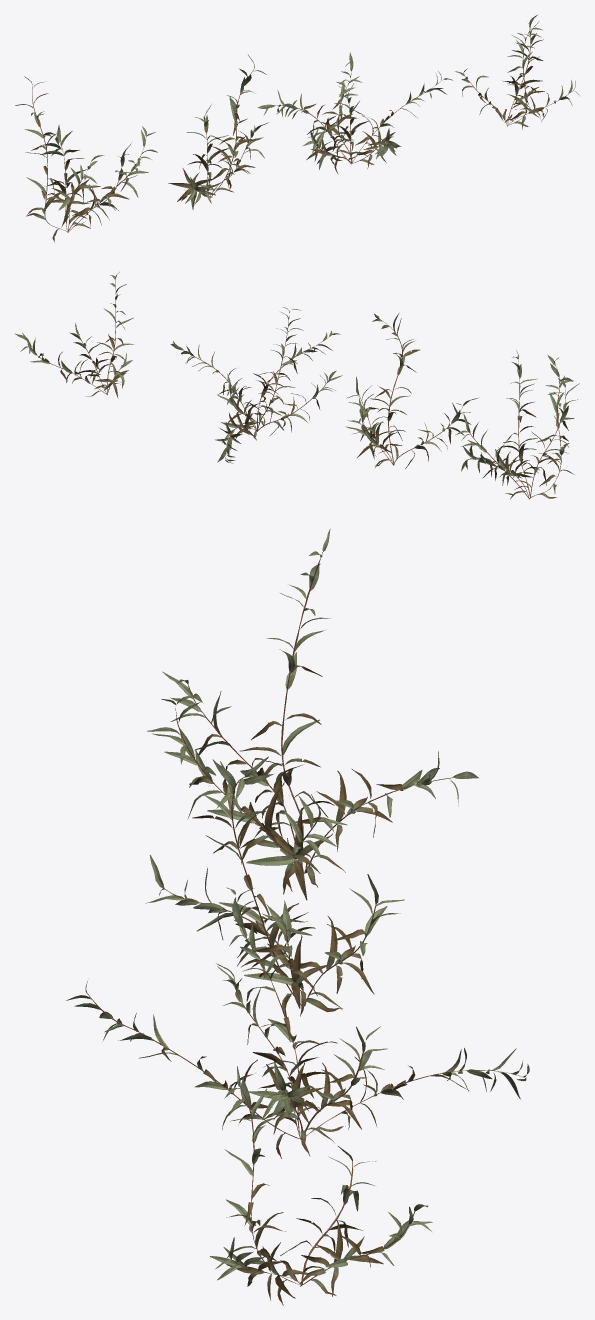
Rendered from shrub_a.glb.
3 renders of one model, top to bottom at view 1: azimuth 30°, elevation 25°; view 2: azimuth 150°, elevation 25°; view 3: azimuth 270°, elevation 25°, orthographic. The views are drawn at different scales.
Visible parts, largest first — view 1: shrub_02_a; view 2: shrub_02_a; view 3: shrub_02_a.
Boxes of the visible parts, x1,y1,x2,y2 form: shrub_02_a: [15, 14, 580, 242]; shrub_02_a: [14, 272, 579, 499]; shrub_02_a: [66, 528, 529, 1305].
Size of the model in its own units: 6.05 by 1.7 by 2.29.
Materials: 1 (1 with a texture image).
